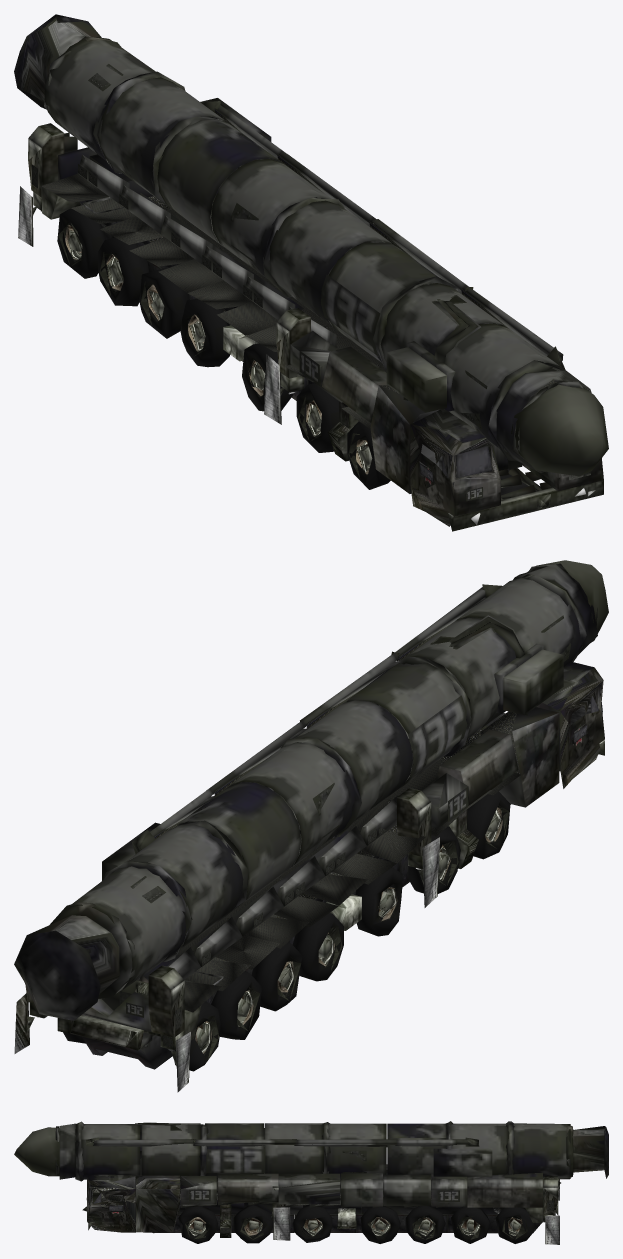
Rendered from topol_lo.glb.
3 views of the same model, one above another, from view 1: azimuth 30°, elevation 25°; view 2: azimuth 150°, elevation 25°; view 3: azimuth 270°, elevation 25° (orthographic). The views are drawn at different scales.
Size of the model in its own units: 5.8 by 6.49 by 33.35.
Materials: 3 (3 with a texture image).
